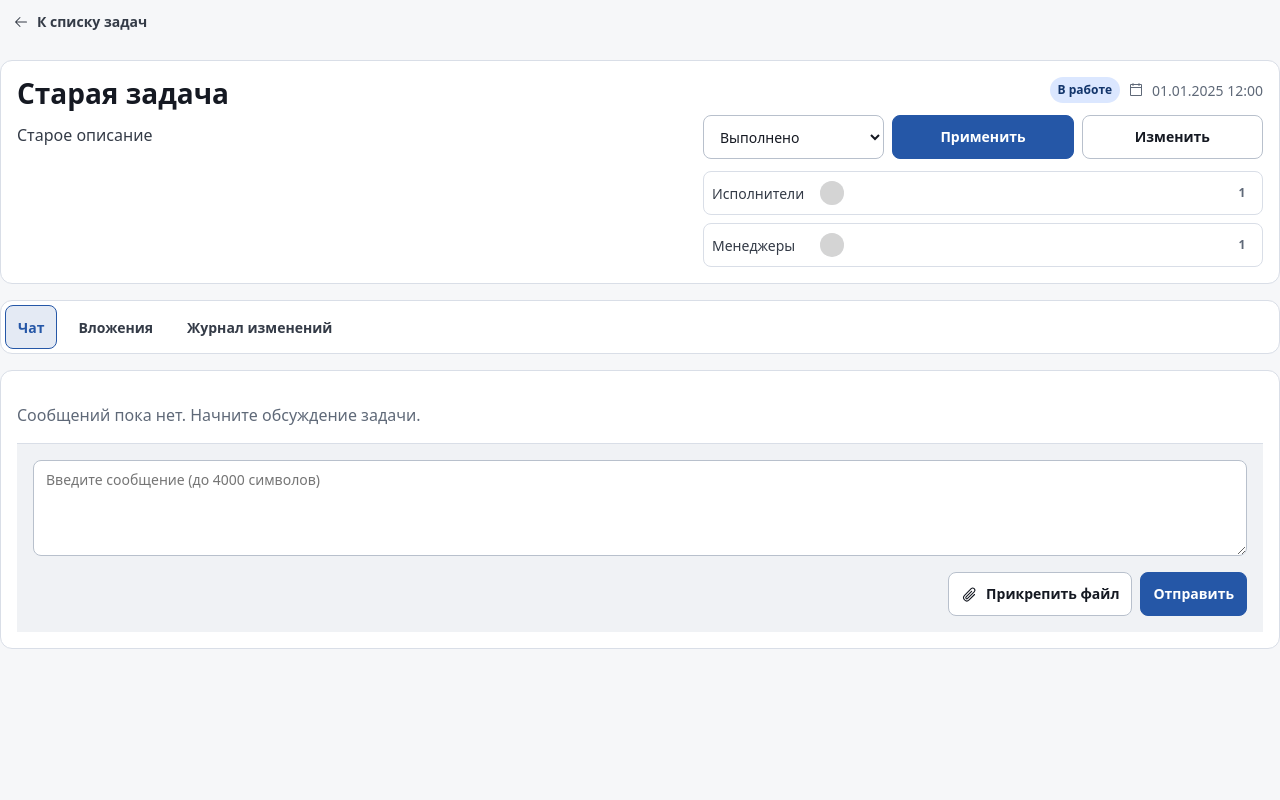
Test: TaskDetailPage edit action › submits edits through existing task APIs and refreshes the detail view
Click the button "Изменить" at (1172, 137), box [1082,115,1263,159]
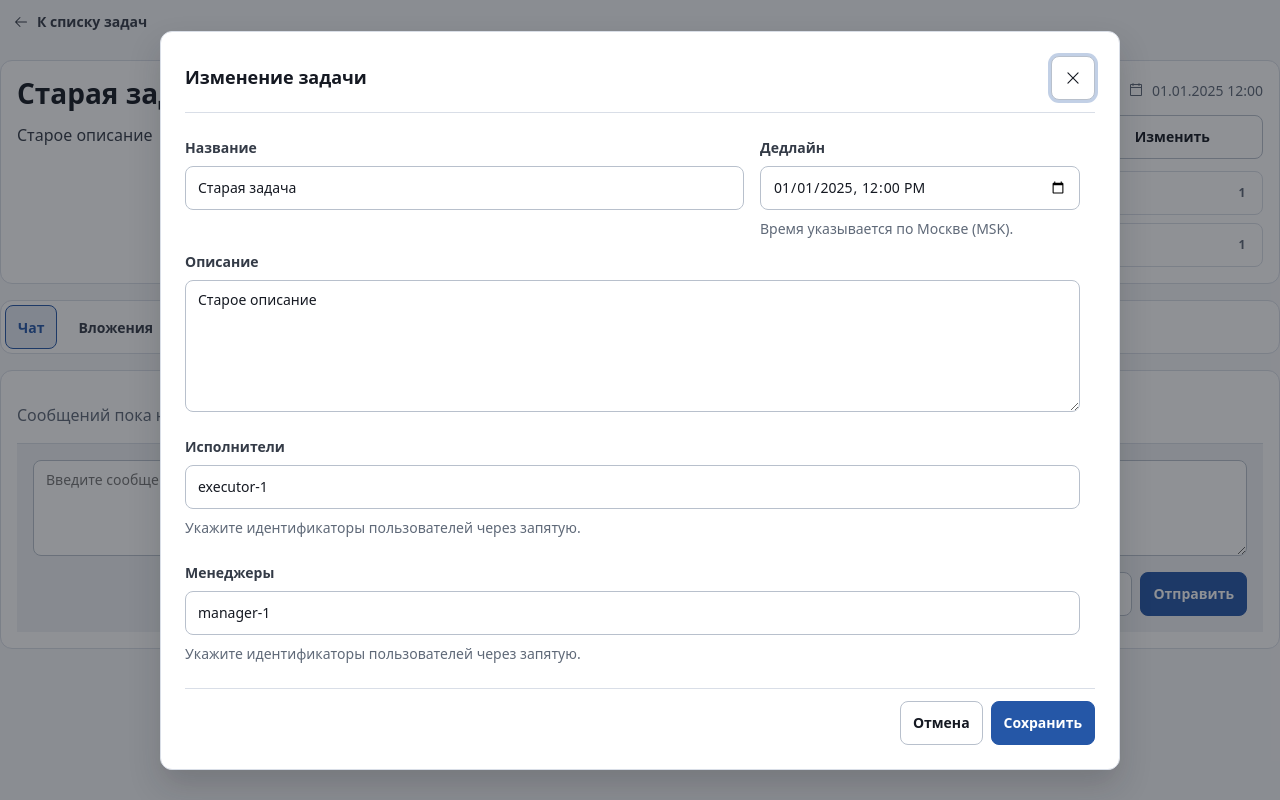
Replace the text in the field labelled "Название" with "Обновленная задача" at (464, 188), box [185,166,744,210]
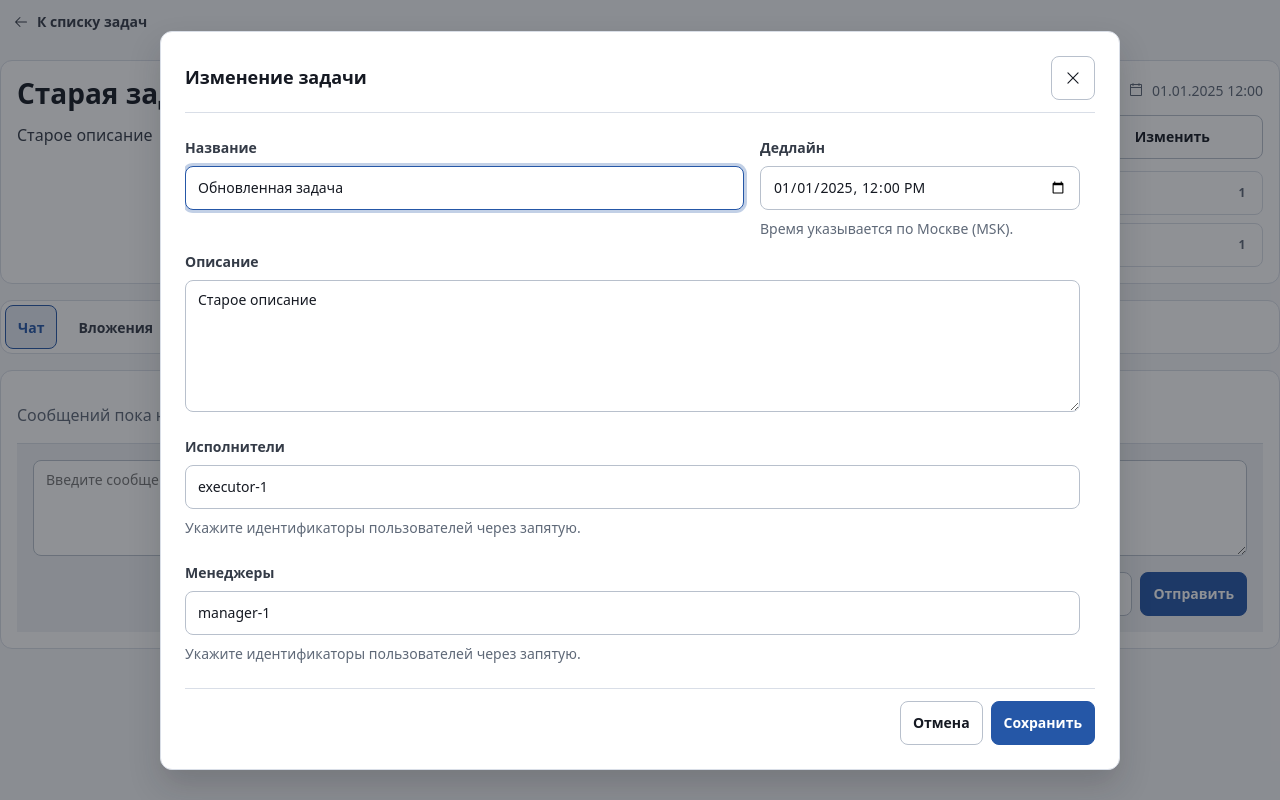
Replace the text in the text box labelled "Описание" with "Новое описание" at (632, 346), box [185,280,1080,412]
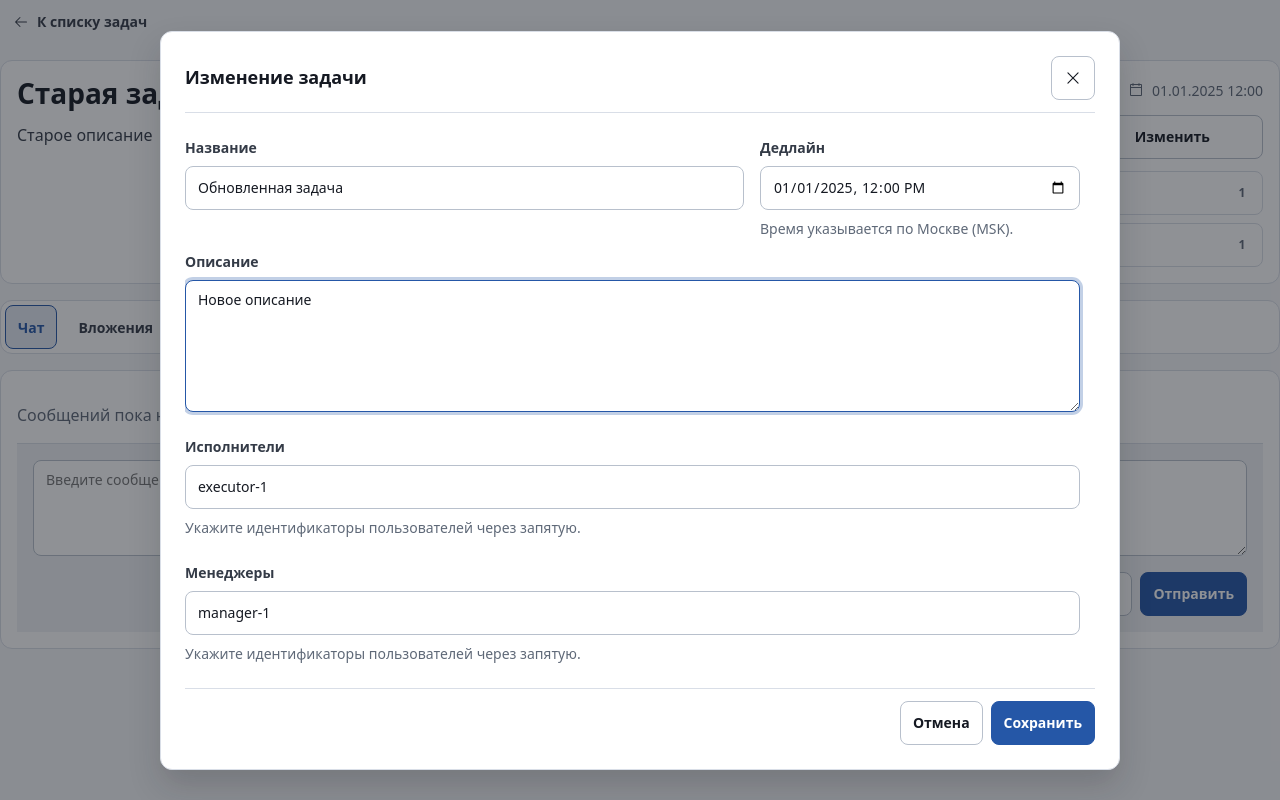
Click the button "Сохранить" at (1043, 722), box [991,700,1095,744]
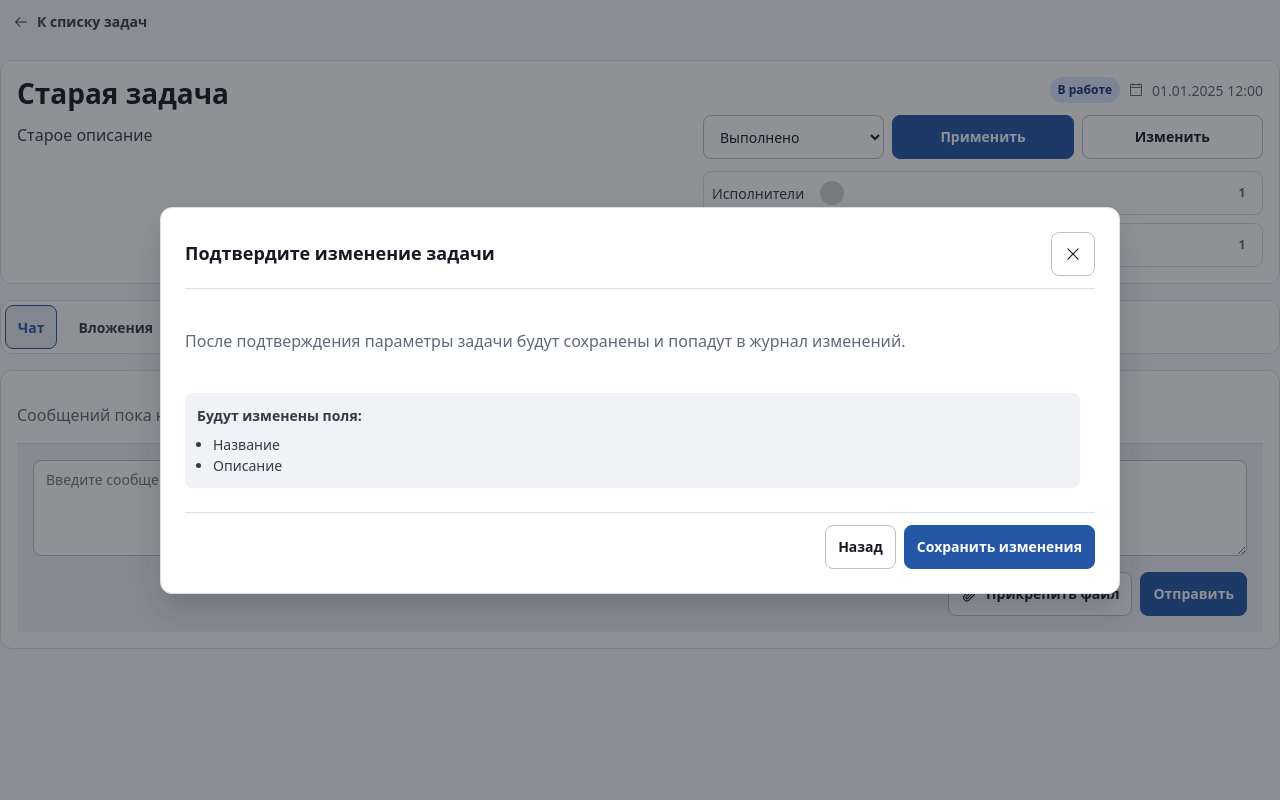
Expected: the list item "Название" is shown, [213,434,280,454]
Expected: the dialog "Подтвердите изменение задачи" is shown, [160,206,1120,594]
Expected: the text "Будут изменены поля:" is shown, [197,406,362,424]
Click the button "Сохранить изменения" at (999, 546), box [904,524,1095,568]
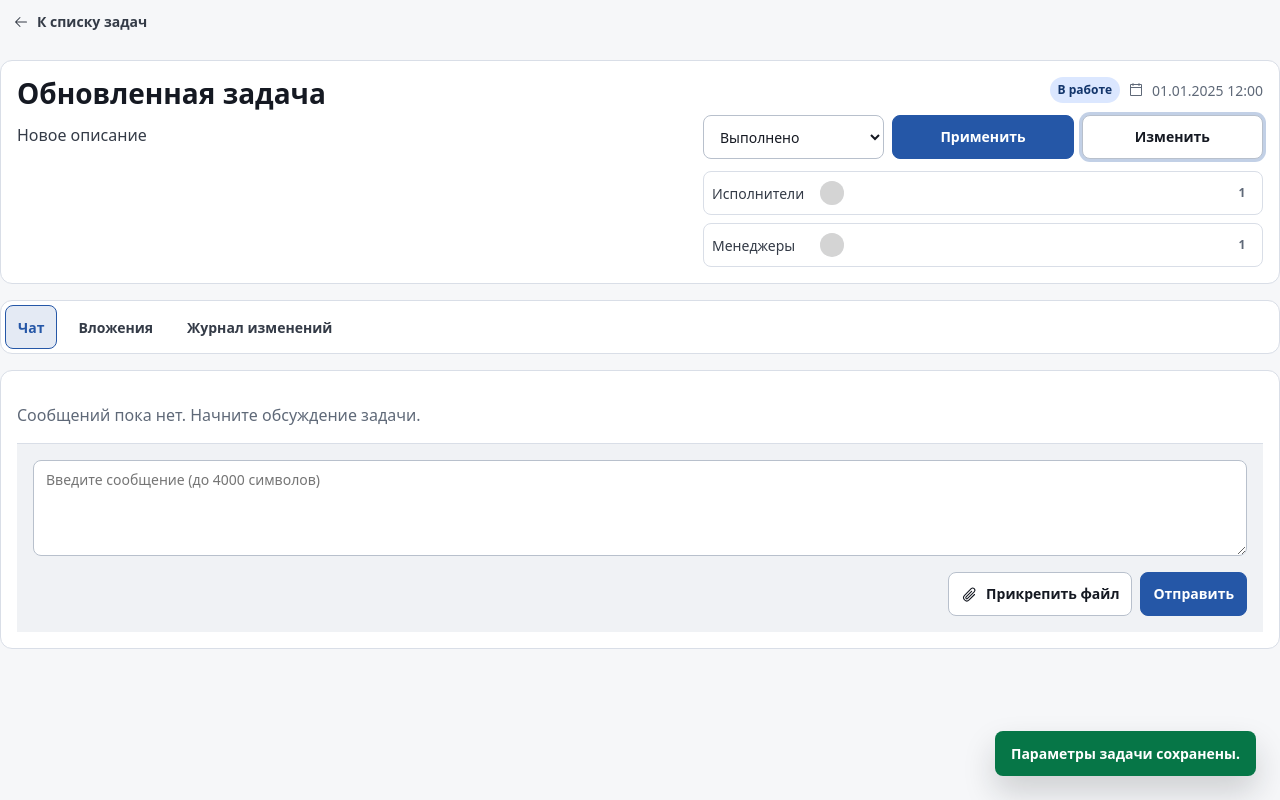
Expected: the heading "Обновленная задача" is shown, [17,74,326,112]
Expected: the message reads "Параметры задачи сохранены.", [1011,744,1240,763]
